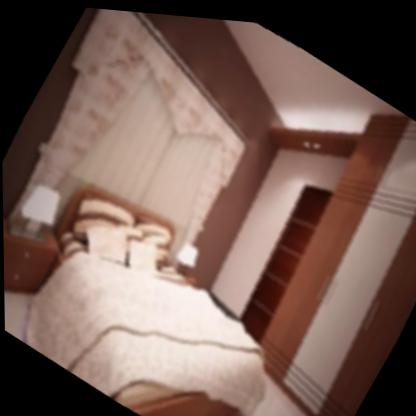Bed: (11, 179, 309, 416)
Nightstand: (2, 198, 73, 326)
